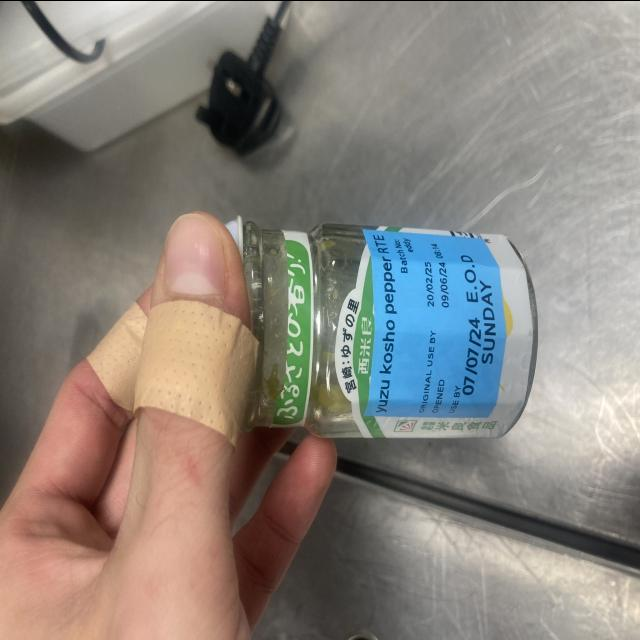product-labels: (362, 228, 508, 418)
